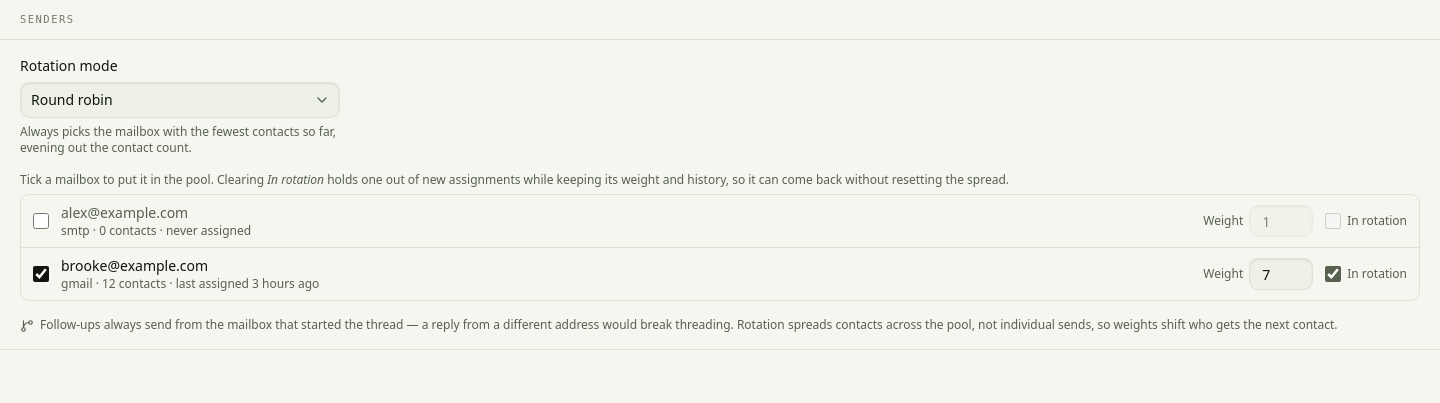
Test: SendersPanel › sends the whole pool and the mode as a full replace
Expected: the dropdown labelled "Rotation mode" is shown, [20, 82, 340, 118]
Click the checkbox named "Include alex@example.com in the pool" at (41, 221), box [33, 213, 49, 229]
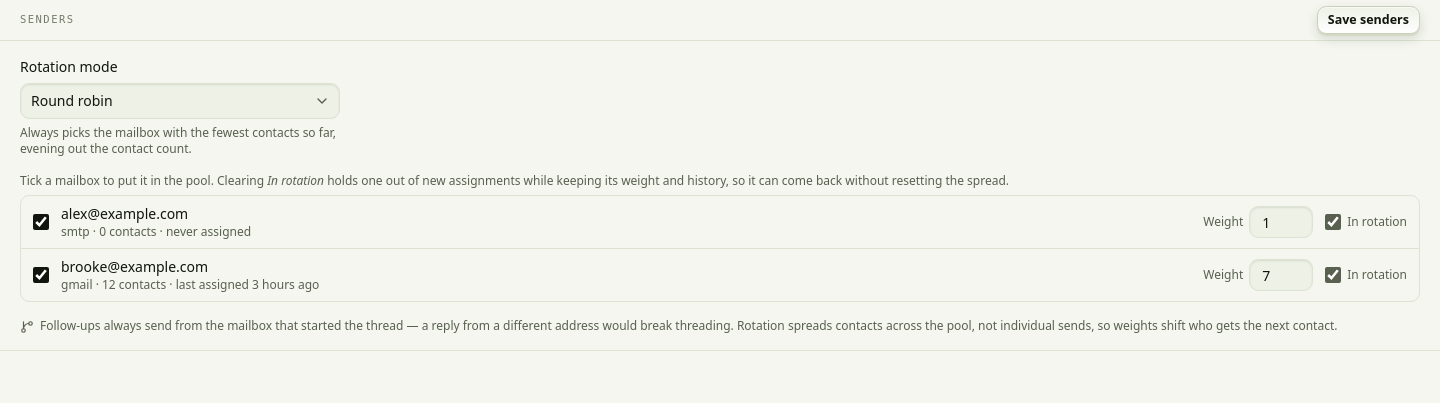
Replace the text in the number field named "Weight for alex@example.com" with "4" at (1281, 222), box [1249, 206, 1313, 238]
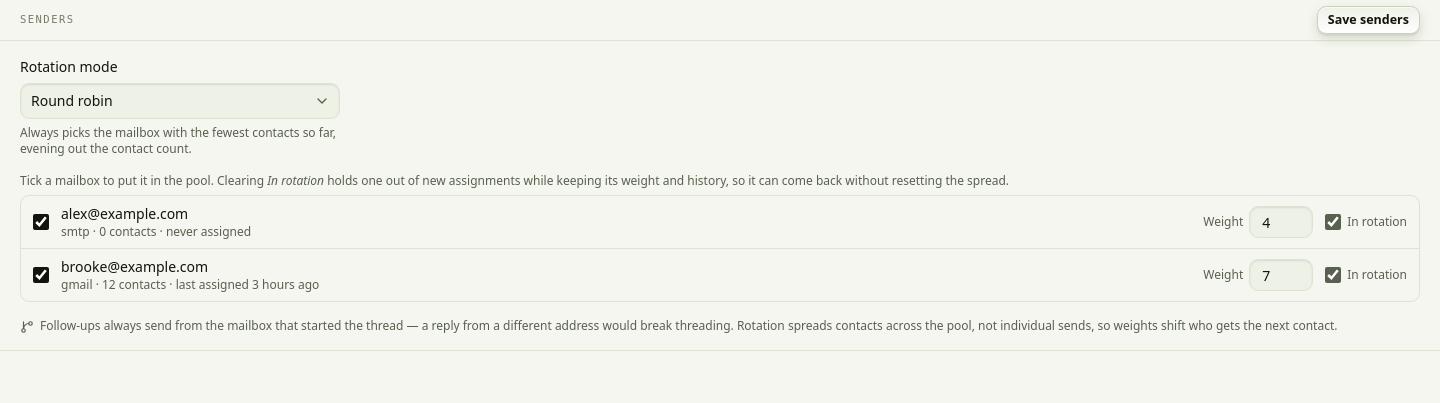
Click the checkbox named "In rotation for brooke@example.com" at (1333, 275), box [1325, 267, 1341, 283]
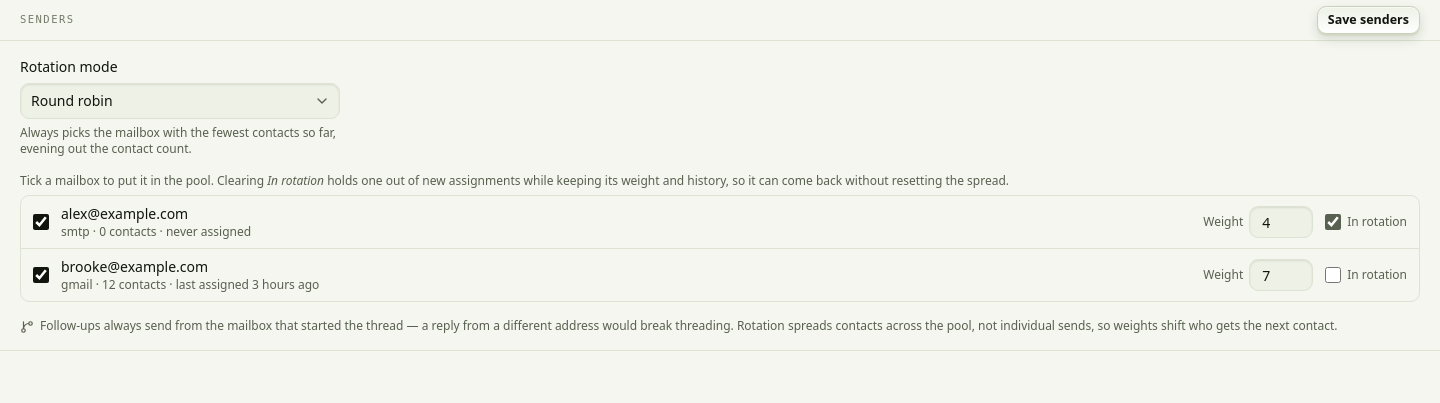
Select "Weighted (recommended)" in the dropdown labelled "Rotation mode" at (180, 101), box [20, 83, 340, 119]
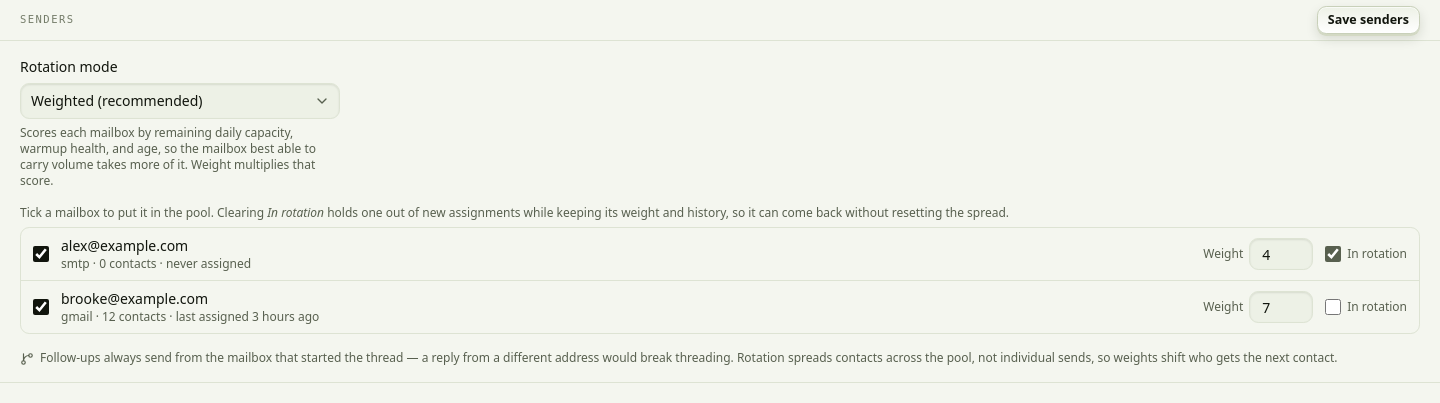
Click the button "Save senders" at (1368, 20), box [1317, 6, 1420, 34]
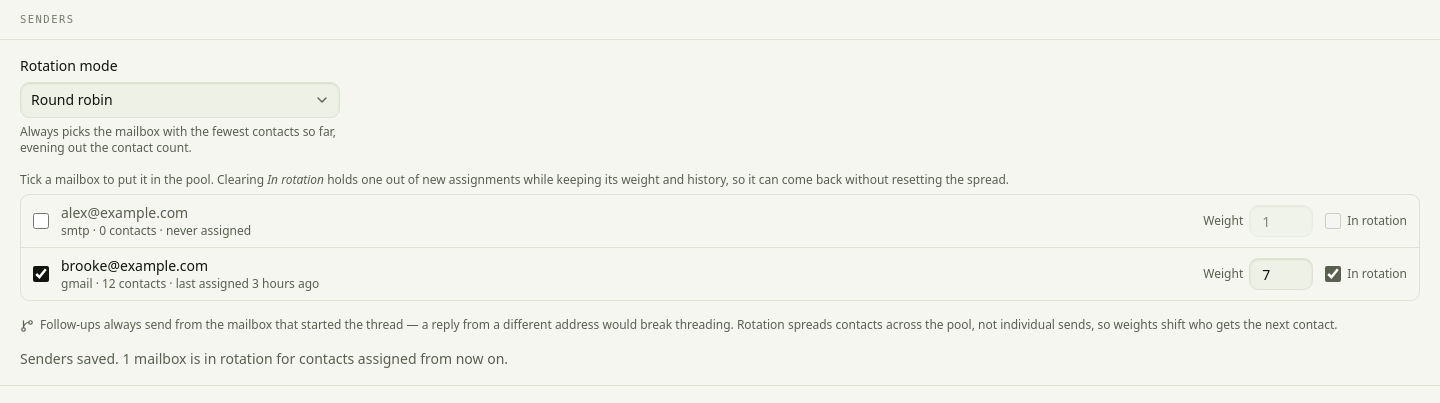
Expected: the text "Senders saved" is shown, [20, 349, 122, 368]
